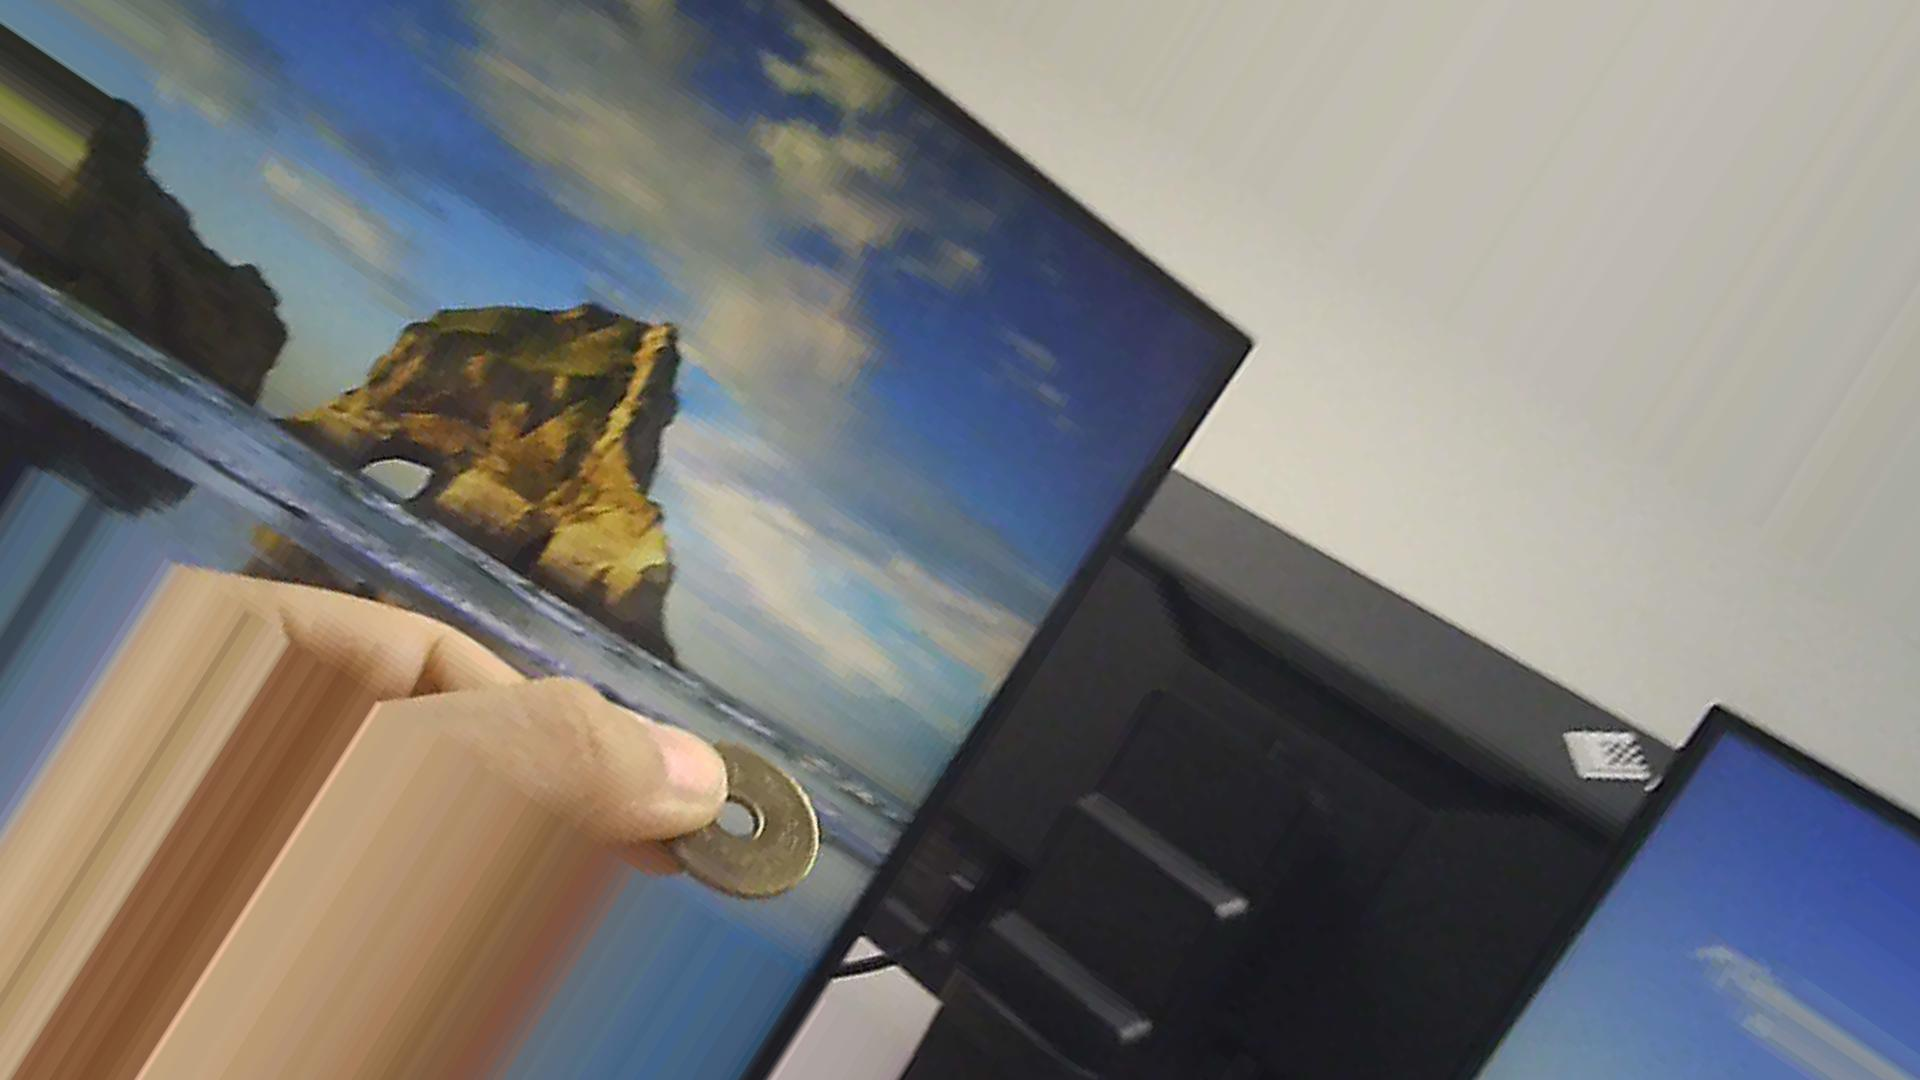5 Yen: (637, 727, 843, 898)
